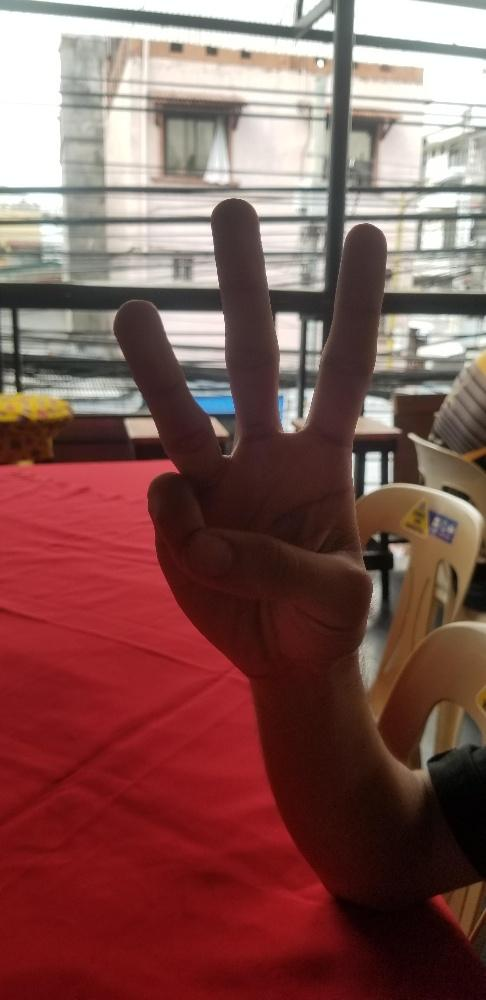w: (108, 191, 392, 675)
